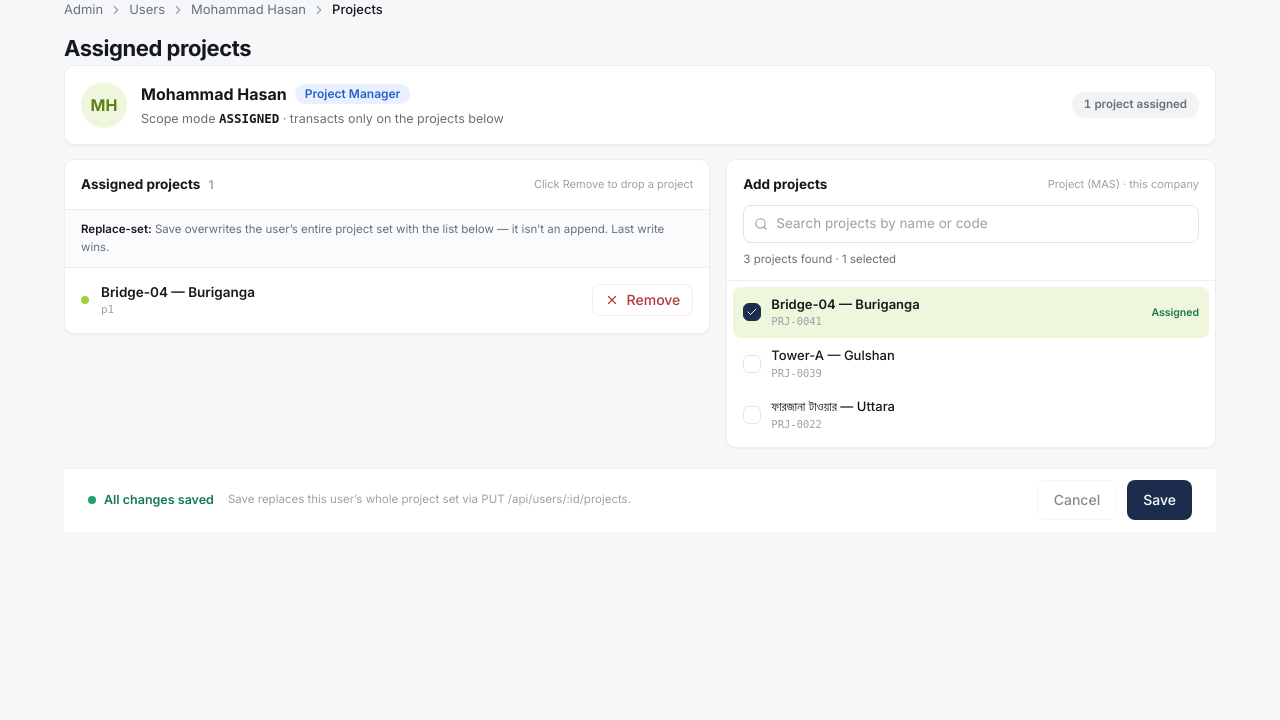
Test case: ProjectAssignmentScreen — batched replace-set save (FR-AUD-014/015) › saving with an empty selection is blocked with the exact validation message
Expected: the element with test id "assigned-projects-list" is shown, [64,159,710,334]
Note: Removing the only project triggers the remove-last confirm dialog first.
Click the button with aria-label "Remove Bridge-04 — Buriganga" at (642, 300), box [592,284,693,316]
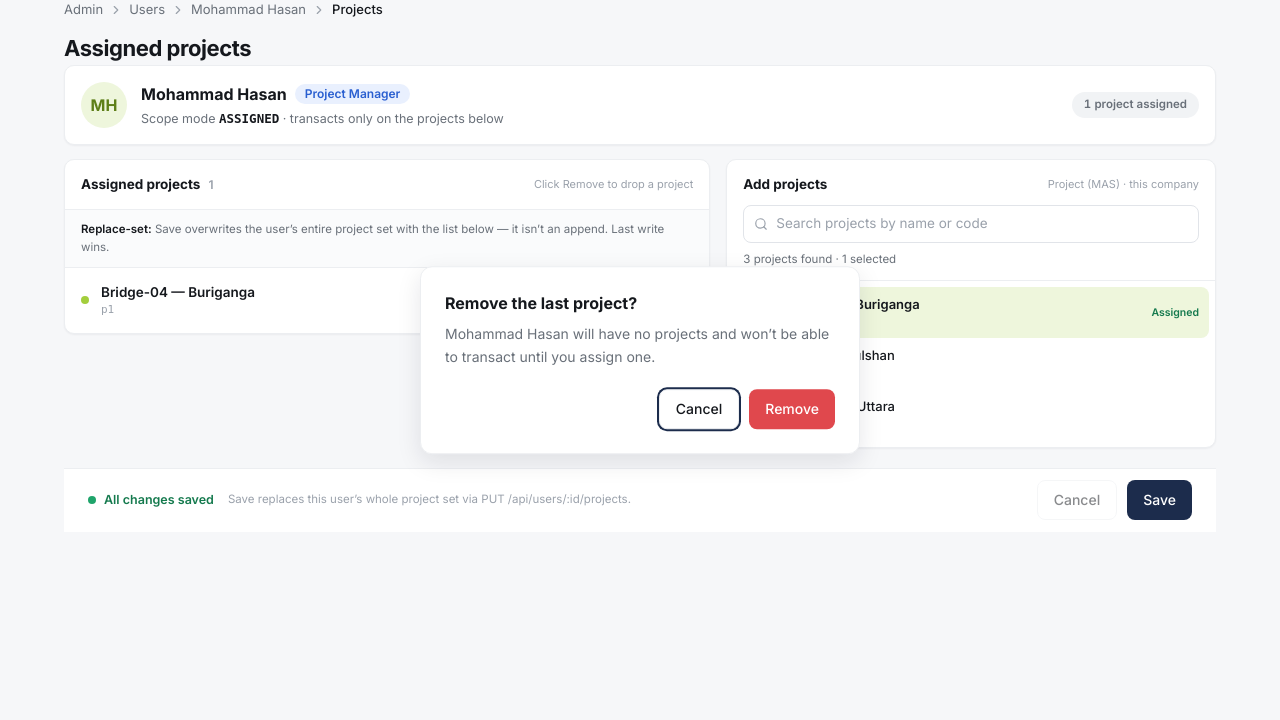
Click the button with test id "remove-last-confirm" at (792, 409), box [749,389,835,429]
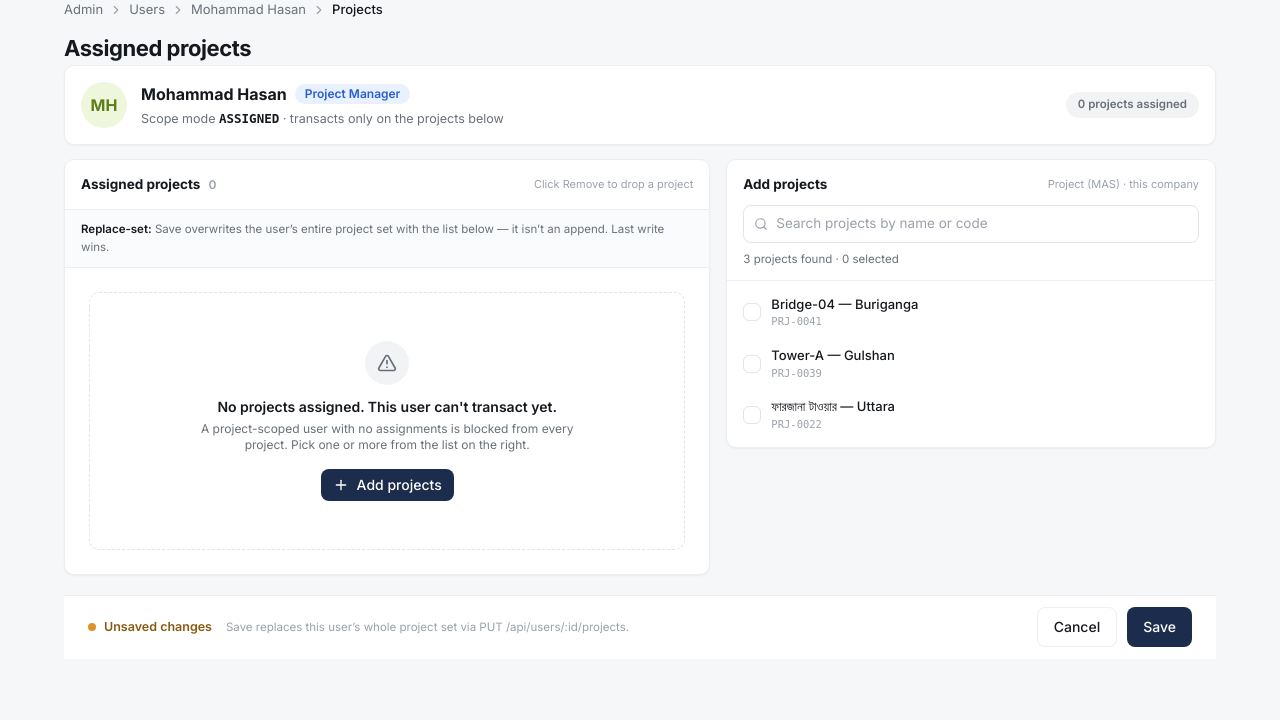
Click the button with test id "save-changes" at (1160, 627), box [1127,607,1192,647]
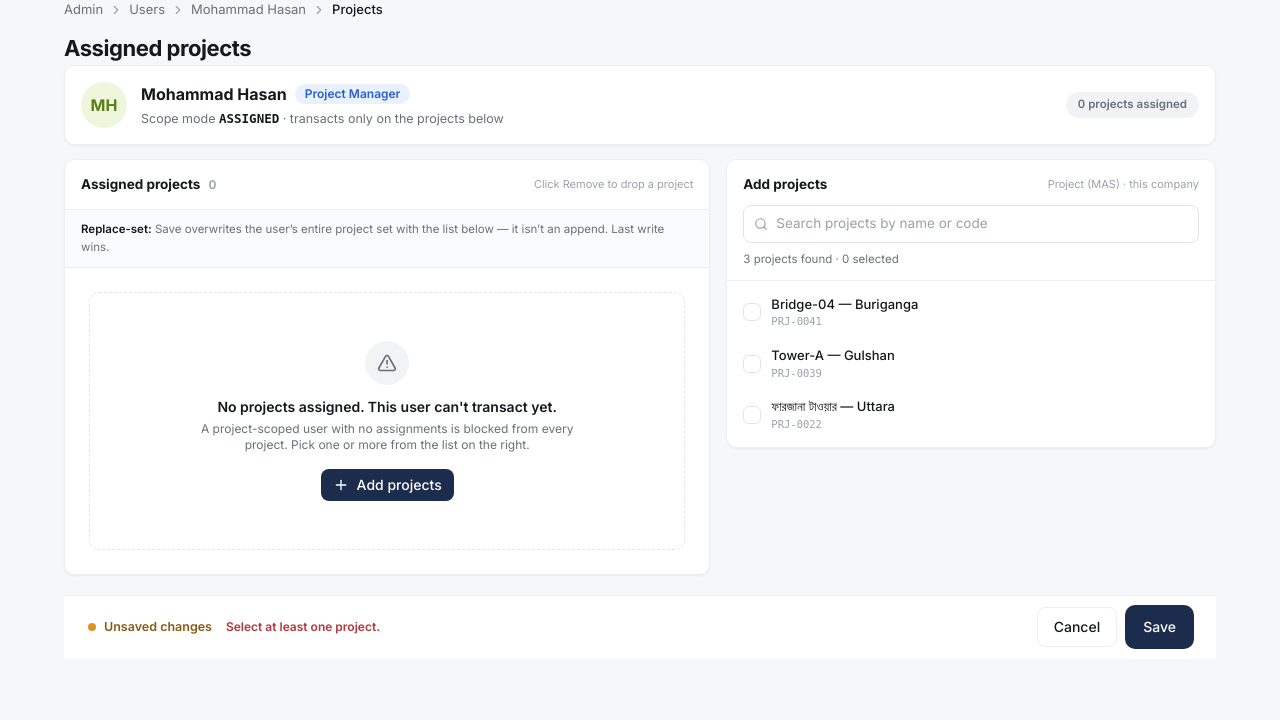
Expected: the text "Select at least one project." is shown, [226,619,380,635]
